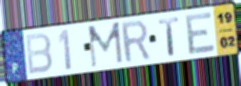1: (57, 28, 73, 72)
B: (23, 31, 54, 77)
E: (184, 10, 217, 56)
M: (86, 20, 125, 70)
R: (119, 18, 153, 65)
T: (157, 15, 181, 57)
